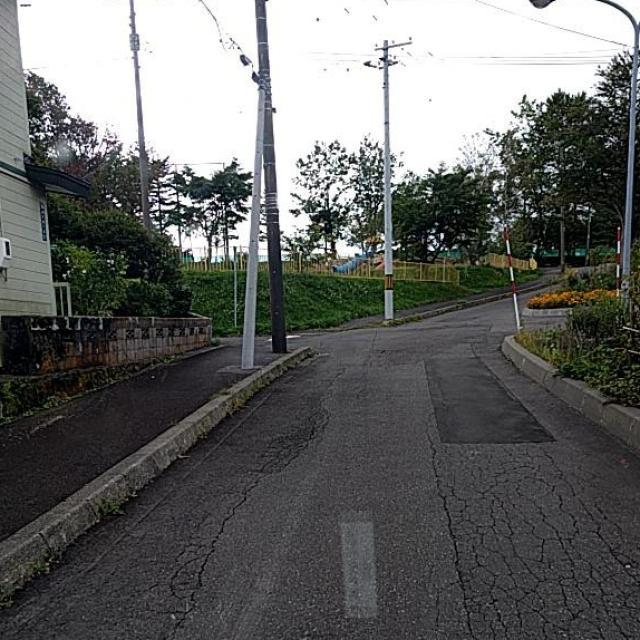Retak Buaya: (436, 444, 640, 640)
Sambungan: (429, 348, 555, 449)
